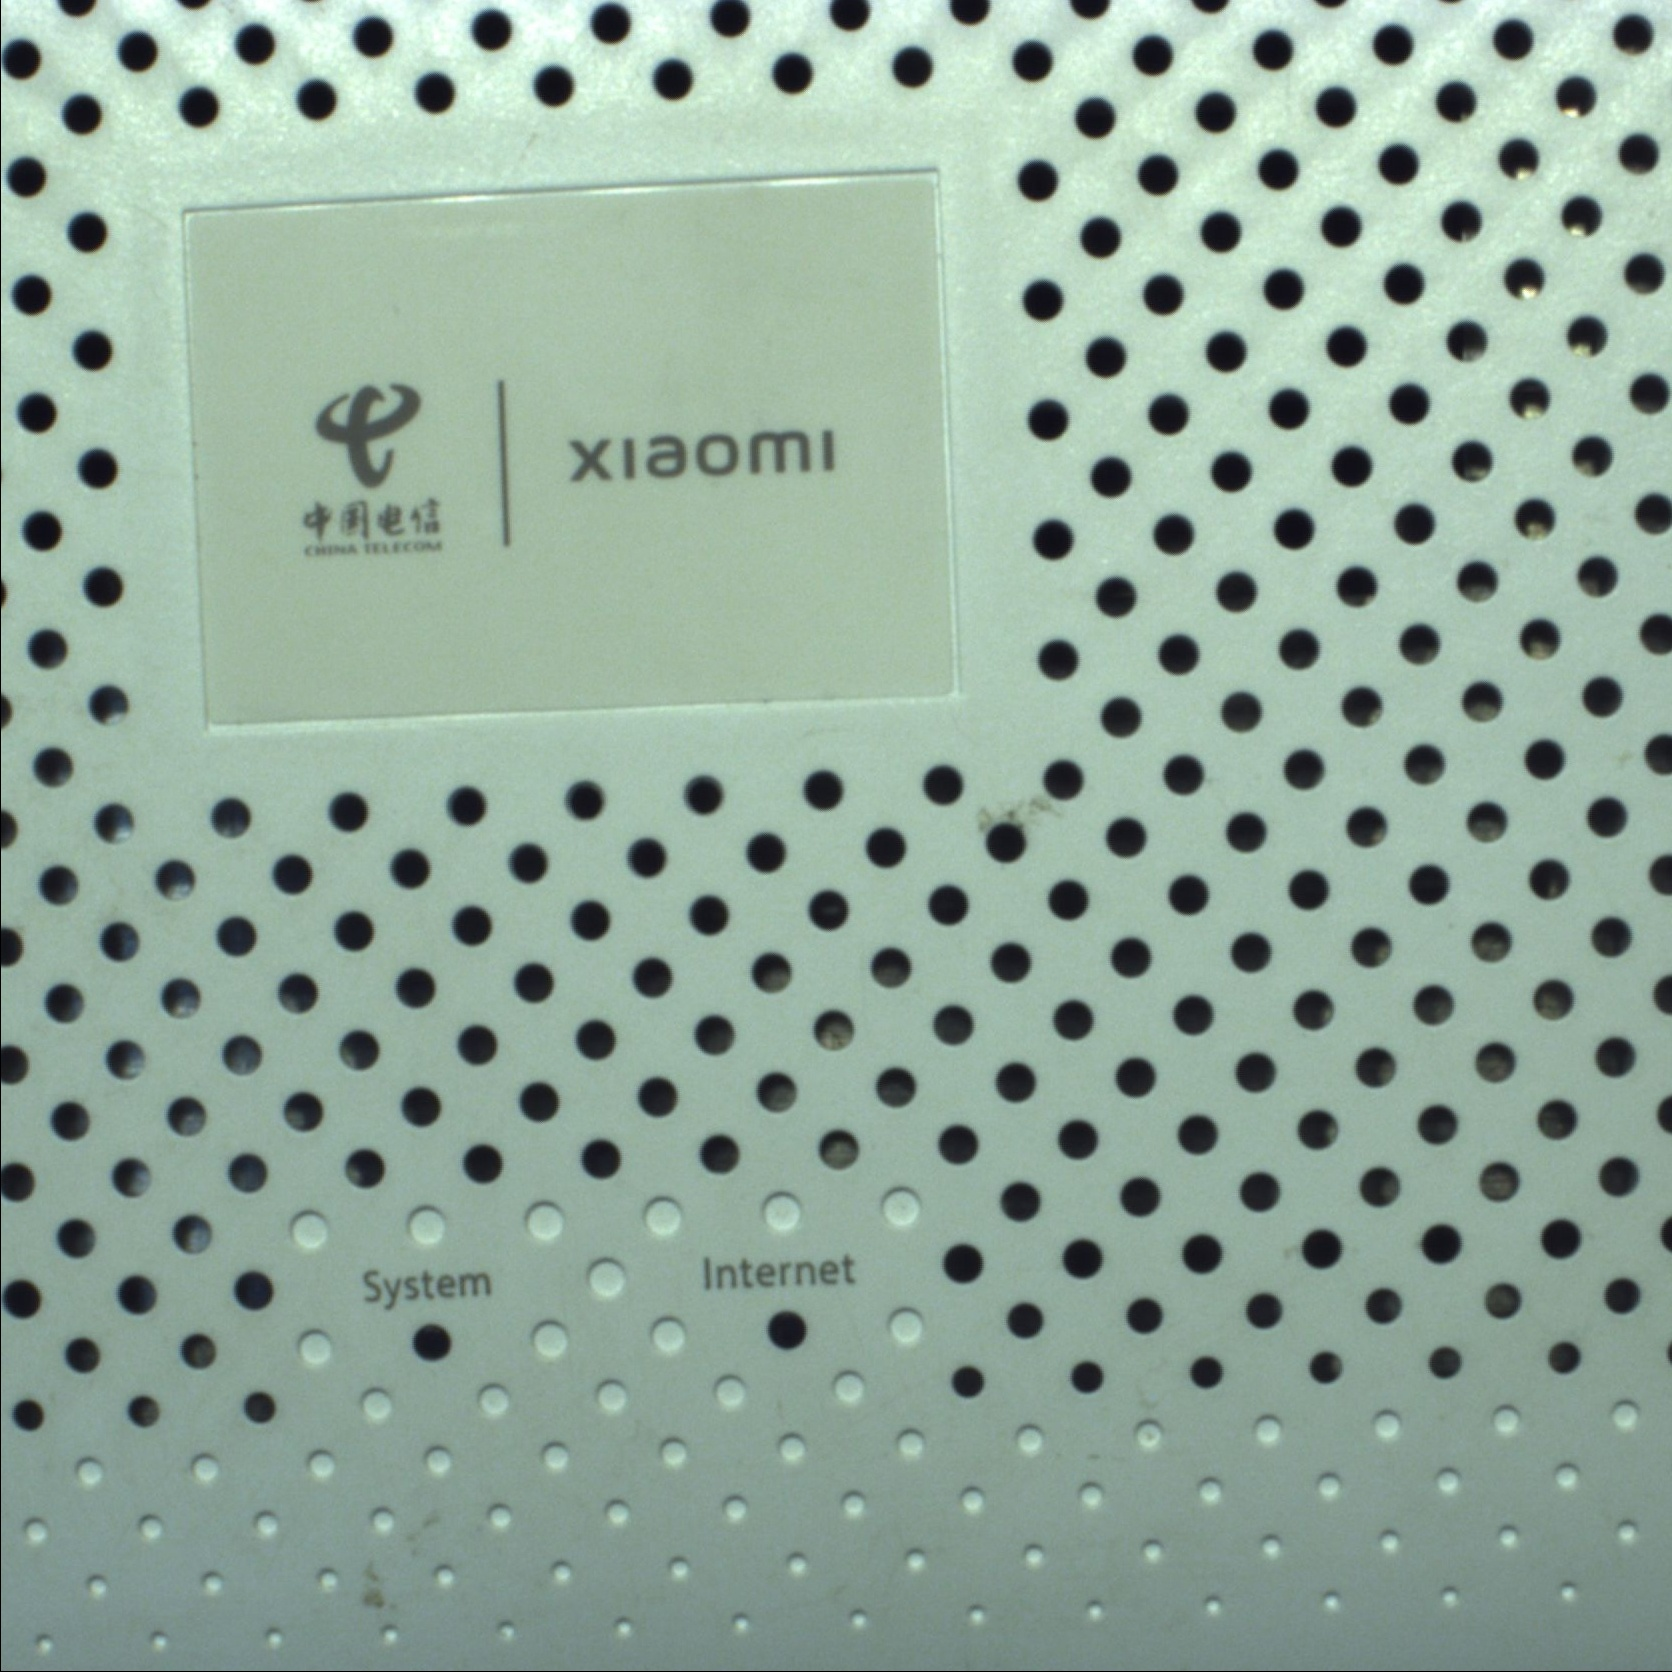MAA_Telecom: (288, 378, 847, 563)
